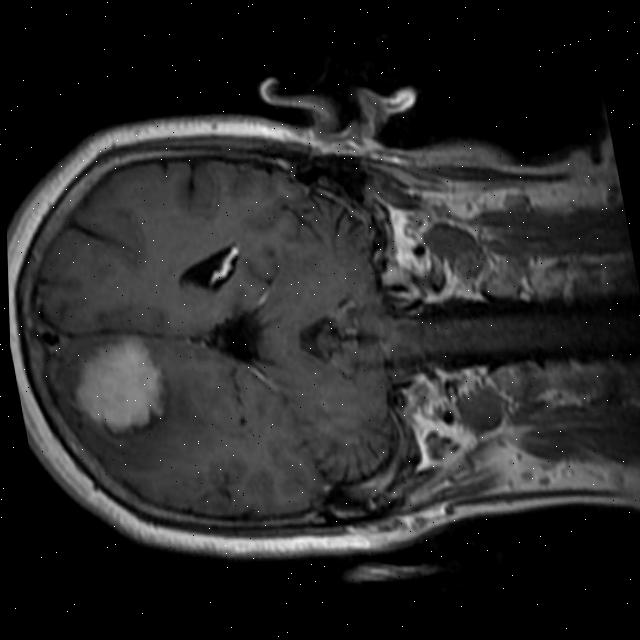Meningioma: (58, 321, 175, 446)
